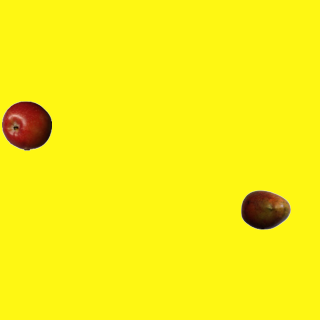Apple Braeburn: (1, 100, 51, 150)
Mango Red: (240, 184, 290, 234)
